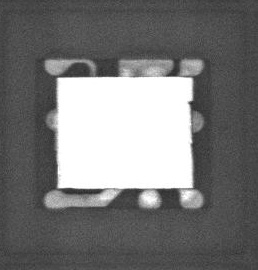DIE_BROKEN: (188, 99, 194, 112)
